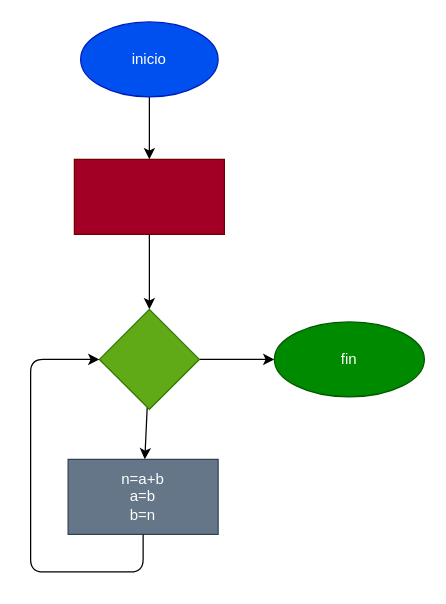
The diagram is 446 pixels wide and 604 high, and some of its shapes have lost their labels. Each missing label, with the centre of its shape:
"a=0 b=0 n=0" belongs at pixel 148 196.
"n<1000" belongs at pixel 148 358.
